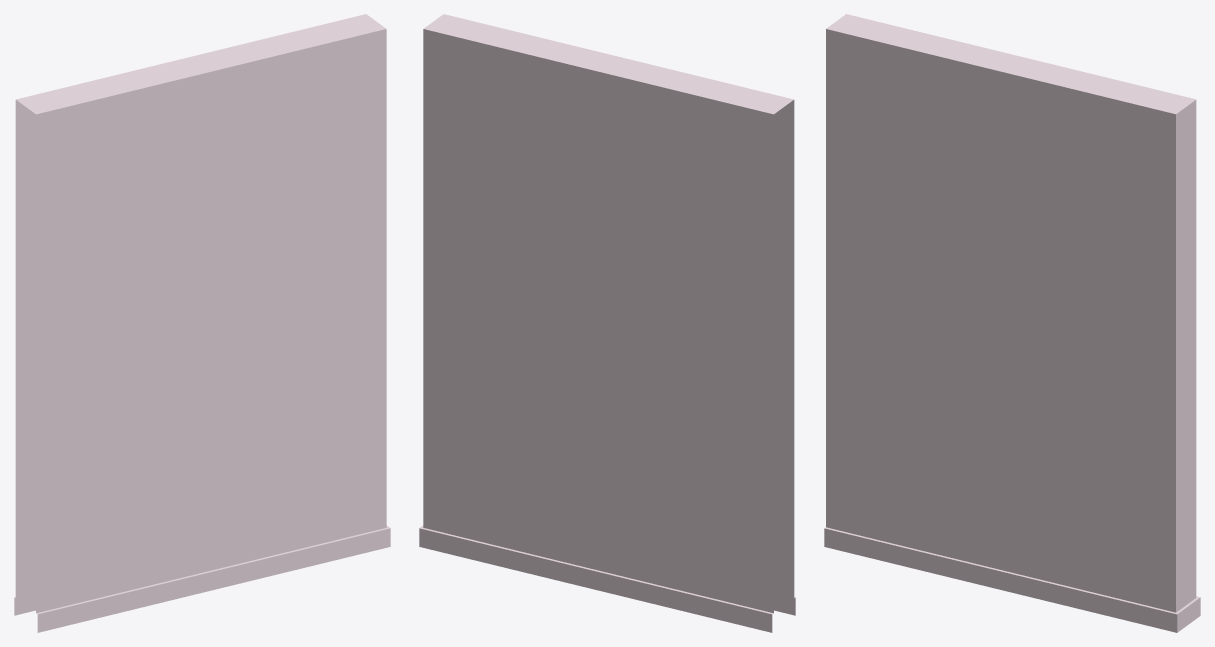
Rendered from env_wall_2m_final.fbx.
3 views of the same model, side by side, from view 1: azimuth 30°, elevation 25°; view 2: azimuth 150°, elevation 25°; view 3: azimuth 330°, elevation 25° (orthographic).
Visible parts, largest first — view 1: Casa pared 2m final; view 2: Casa pared 2m final; view 3: Casa pared 2m final.
Part boxes in pixels (box(x1,y1,x2,y2)): Casa pared 2m final: box(14, 14, 390, 632); Casa pared 2m final: box(419, 14, 795, 632); Casa pared 2m final: box(824, 14, 1200, 632).
Size of the model in its own units: 200 by 280 by 23.
1 material, 1 textured.
